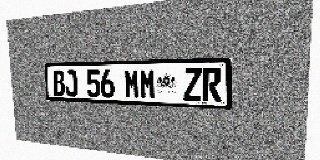5: (86, 69, 101, 97)
6: (100, 69, 115, 98)
B: (52, 70, 65, 96)
J: (64, 70, 78, 97)
M: (124, 69, 140, 99), (140, 69, 156, 99)
R: (202, 68, 222, 102)
Z: (183, 68, 202, 101)
